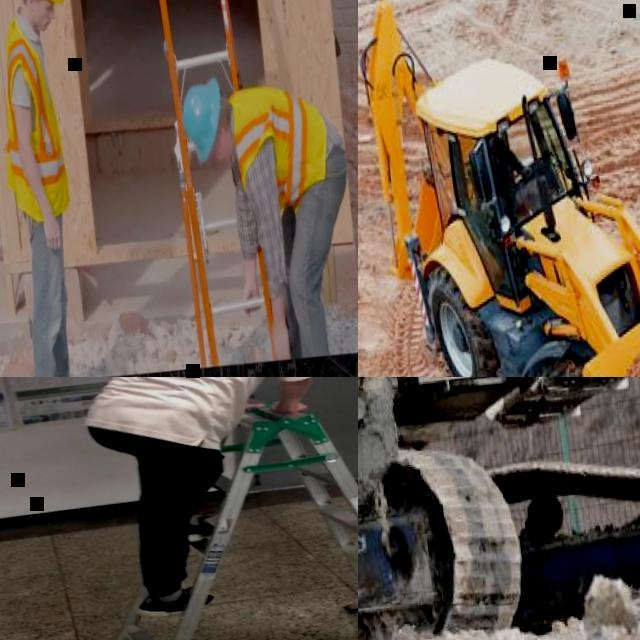Hardhat: (178, 77, 227, 162)
NO-Mask: (34, 9, 50, 32), (217, 140, 231, 162)
NO-Safety Vest: (75, 377, 294, 451)
Person: (70, 377, 358, 618), (177, 64, 358, 366), (0, 0, 104, 377), (358, 377, 422, 640), (481, 134, 531, 201)
Safety Vest: (226, 77, 334, 221), (0, 12, 72, 221)
machinery: (358, 0, 640, 377), (358, 377, 640, 640)
